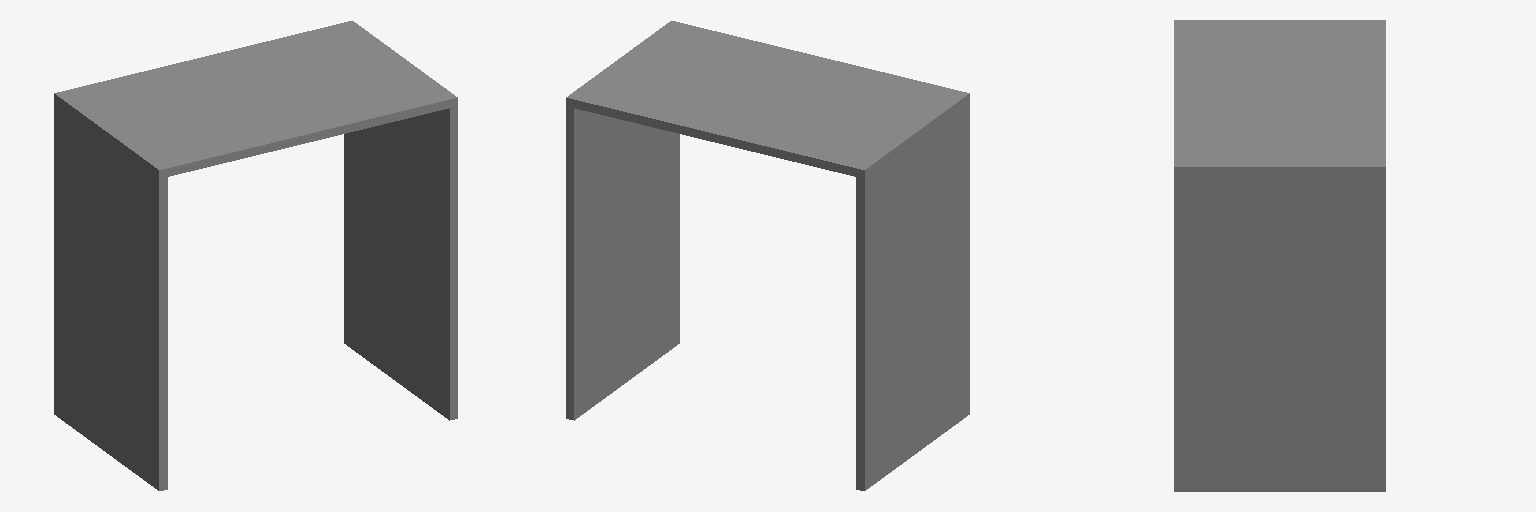
robot.urdf — ur5e_workcell_base:
<?xml version="1.0" encoding="utf-8"?>
<robot name="ur5e_workcell_base">

  <link name="workcell_base_link">

    <inertial>
      <origin xyz="0 0 0" rpy="0 0 0"/>
      <mass value="9.31392" />
      <inertia ixx="0.701959104" ixy="0" ixz="0"
               iyy="1.0452288" iyz="0" izz="1.446658752" />
    </inertial>

    <visual>
      <geometry>
        <mesh filename="package://ur5e_workcell/meshes/workcell_table.stl"/>
      </geometry>
      <material name="workcell_gray">
        <color rgba="0.6 0.6 0.6 1"/>
      </material>
    </visual>

    <collision>
      <geometry>
        <mesh filename="package://ur5e_workcell/meshes/workcell_table.stl"/>
      </geometry>
    </collision>

  </link>

</robot>

--- What the picture shows (computed from the rendered views, not written in the file) ---
The picture shows the robot from 3 angles, left to right: view 1: azimuth 30°, elevation 25°; view 2: azimuth 150°, elevation 25°; view 3: azimuth 270°, elevation 25°; orthographic projection.
Model ur5e_workcell_base with 1 links and 0 joints (none), rooted at workcell_base_link, posed all joints at 0.
Links seen in each view (by area): view 1: workcell_base_link; view 2: workcell_base_link; view 3: workcell_base_link.
Boxes of the visible links, x1,y1,x2,y2 form: workcell_base_link: (54, 21, 457, 490); workcell_base_link: (566, 21, 969, 490); workcell_base_link: (1174, 20, 1385, 491).
Size in the robot's own frame: 0.72 by 0.44 by 0.74 metres.
1 mesh visuals loaded from 1 distinct referenced files (1 binary STL).
